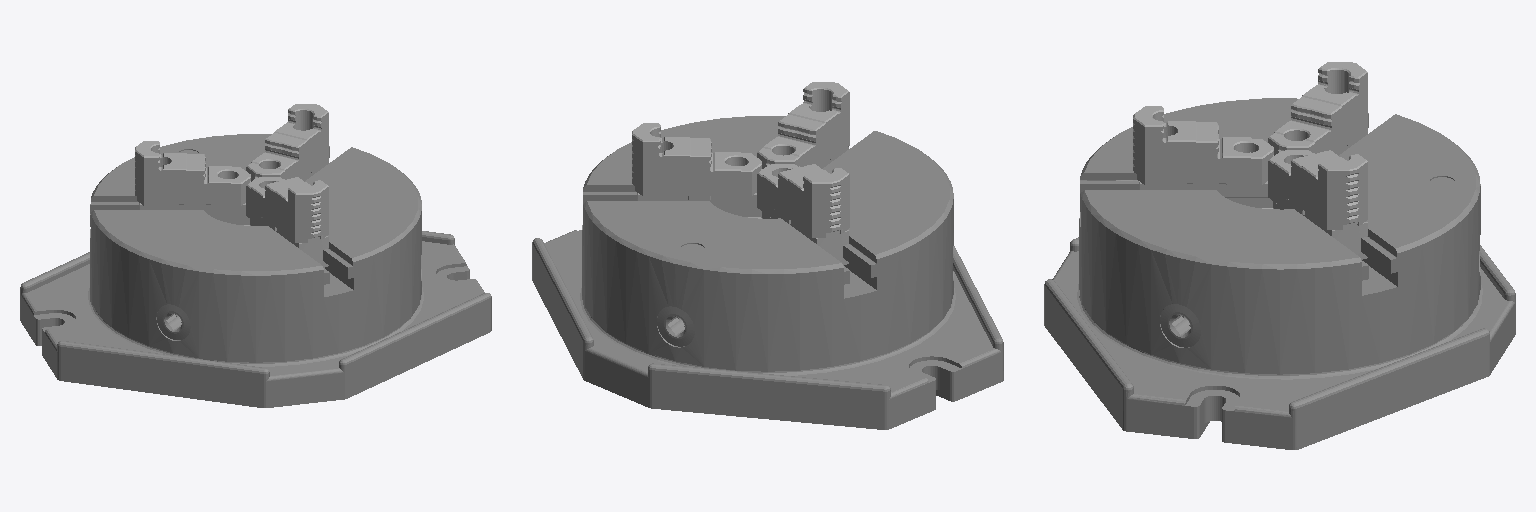
robot.urdf — Dreibackenfutter:
<?xml version="1.0" ?>
<robot name="Dreibackenfutter">
  <link name="baseLink">
    <contact>
      <stiffness value="30000.0"/>
      <damping value="1000.0"/>
      <spinning_friction value="0.1"/>
      <lateral_friction value="3.0"/>
      <contact_cfm value="0.2"/>
    </contact>
    <inertial>
      <origin rpy="0 0 0" xyz="0 0 0.0"/>
       <mass value="1"/>
       <inertia ixx="1" ixy="0" ixz="0" iyy="1" iyz="0" izz="2"/>
    </inertial>
    <visual>
      <origin rpy="0 0 0" xyz="0 0 0"/>
      <geometry>
		<mesh filename="Base.stl"/>
      </geometry>
       <material name="dark">
        <color rgba="0.6 0.6 0.6 1"/>
      </material>
    </visual>
  </link>
  <link name="backe01">
    <contact>
      <stiffness value="30000.0"/>
      <damping value="1000.0"/>
      <spinning_friction value="0.1"/>
      <lateral_friction value="3.0"/>
      <contact_cfm value="0.2"/>
    </contact>
    <inertial>
      <origin rpy="0 0 0" xyz="0 0 0.0"/>
       <mass value="1"/>
       <inertia ixx="1" ixy="0" ixz="0" iyy="1" iyz="0" izz="2"/>
    </inertial>
    <visual>
      <origin rpy="0 0 0" xyz="0 0 0"/>
      <geometry>
		<mesh filename="part.stl"/>
      </geometry>
       <material name="grey">
        <color rgba="0.7 0.7 0.7 1"/>
      </material>
    </visual>
  </link>
  <link name="backe02">
    <contact>
      <stiffness value="30000.0"/>
      <damping value="1000.0"/>
      <spinning_friction value="0.1"/>
      <lateral_friction value="3.0"/>
      <contact_cfm value="0.2"/>
    </contact>
    <inertial>
      <origin rpy="0 0 0" xyz="0 0 0.0"/>
       <mass value="1"/>
       <inertia ixx="1" ixy="0" ixz="0" iyy="1" iyz="0" izz="2"/>
    </inertial>
    <visual>
      <origin rpy="0 0 0" xyz="0 0 0"/>
      <geometry>
		<mesh filename="part.stl"/>
      </geometry>
       <material name="grey">
        <color rgba="0.7 0.7 0.7 1"/>
      </material>
    </visual>
  </link>
  <link name="backe03">
    <contact>
      <stiffness value="30000.0"/>
      <damping value="1000.0"/>
      <spinning_friction value="0.1"/>
      <lateral_friction value="3.0"/>
      <contact_cfm value="0.2"/>
    </contact>
    <inertial>
      <origin rpy="0 0 0" xyz="0 0 0.0"/>
       <mass value="1"/>
       <inertia ixx="1" ixy="0" ixz="0" iyy="1" iyz="0" izz="2"/>
    </inertial>
    <visual>
      <origin rpy="0 0 0" xyz="0 0 0"/>
      <geometry>
		<mesh filename="part.stl"/>
      </geometry>
       <material name="grey">
        <color rgba="0.7 0.7 0.7 1"/>
      </material>
    </visual>
  </link>
  <joint name="finger_joint1" type="prismatic">
    <parent link="baseLink"/>
    <child link="backe01"/>
    <origin rpy="0 0 0" xyz="0.0 0 0.0"/>
    <axis xyz="0 1 0"/>
    <limit effort="20000" lower="-80" upper="10" velocity="200"/>
  </joint>
  <joint name="finger_joint2" type="prismatic">
    <parent link="baseLink"/>
    <child link="backe02"/>
    <origin rpy="0 0 2.09439510239319" xyz="0.0 0 0.0"/>
    <axis xyz="0 1 0"/>
    <limit effort="20000" lower="-80" upper="10" velocity="200"/>
  </joint>
  <joint name="finger_joint3" type="prismatic">
    <parent link="baseLink"/>
    <child link="backe03"/>
    <origin rpy="0 0 -2.09439510239319" xyz="0.0 0 0.0"/>
    <axis xyz="0 1 0"/>
    <limit effort="20000" lower="-80" upper="10" velocity="200"/>
  </joint>
</robot>

--- Facts derived from the render (not from the file) ---
Views: 3 orthographic renders of the robot side by side, from view 1: azimuth 30°, elevation 25°; view 2: azimuth 150°, elevation 25°; view 3: azimuth 270°, elevation 25°.
Robot: Dreibackenfutter — 4 links, 3 joints (3 prismatic); root link baseLink; default pose: every joint at zero.
Links seen in each view (by area): view 1: baseLink, backe03, backe01, backe02; view 2: baseLink, backe02, backe03, backe01; view 3: baseLink, backe01, backe02, backe03.
Link boxes in pixels (x1,y1,x2,y2): baseLink: (20, 134, 491, 407); backe03: (135, 141, 250, 225); backe01: (246, 177, 328, 267); backe02: (246, 104, 328, 181); baseLink: (532, 116, 1003, 429); backe02: (632, 123, 761, 218); backe03: (757, 164, 849, 264); backe01: (757, 82, 849, 168); baseLink: (1044, 98, 1515, 449); backe01: (1133, 106, 1273, 208); backe02: (1268, 150, 1367, 259); backe03: (1268, 62, 1367, 155).
Size in the robot's own frame: 447 by 370 by 186 metres.
Meshes: 2 distinct files referenced, 4 mesh visuals loaded (2 binary STL).
